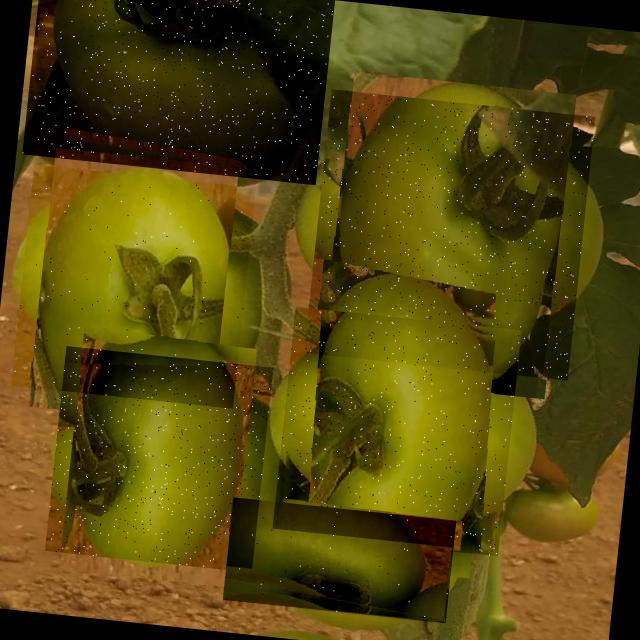Unripe Tomato: (304, 89, 594, 380), (272, 306, 521, 556), (11, 164, 256, 408), (21, 0, 334, 185), (44, 346, 272, 572), (222, 497, 456, 626)
